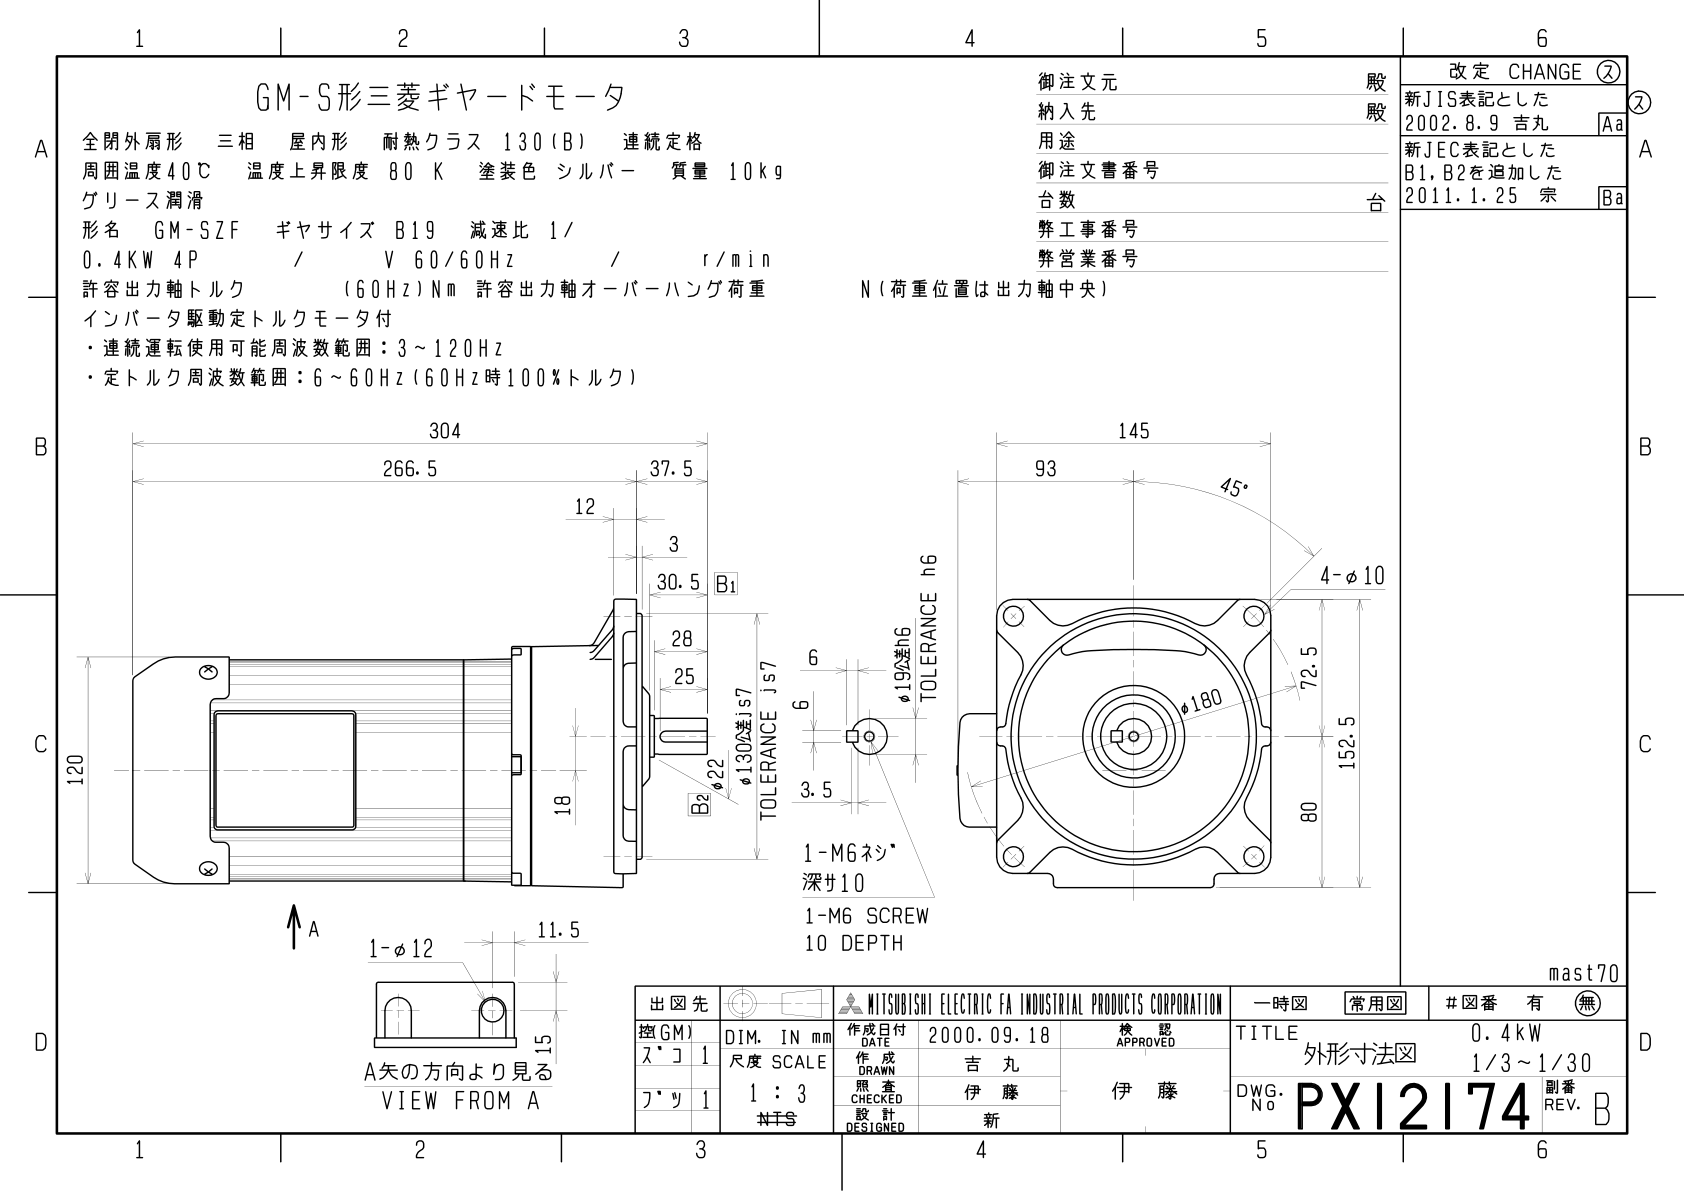GM_S_インバタ屋内＿三相_フランジ: (63, 396, 1392, 962)
